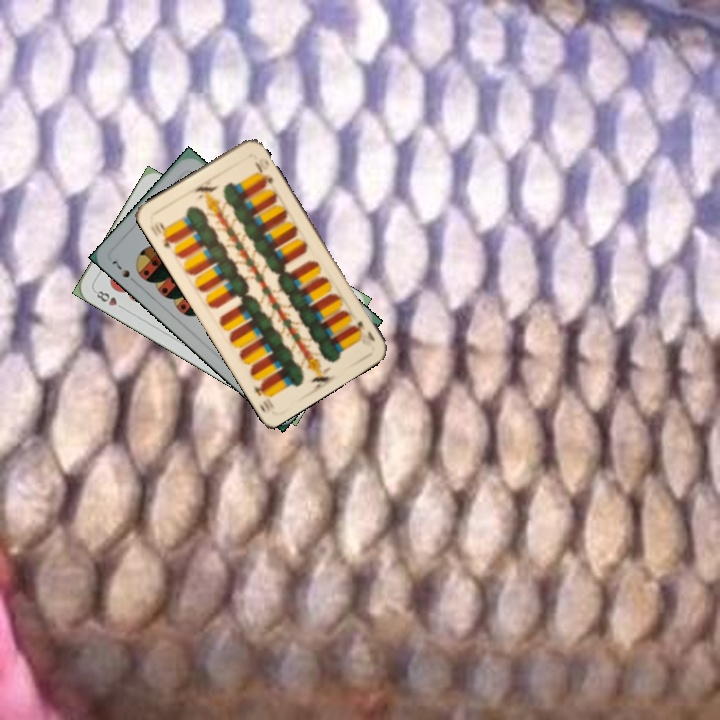E10: (151, 217, 178, 251), (349, 317, 377, 344)
H8: (90, 286, 127, 312)
S7: (108, 256, 133, 280)
